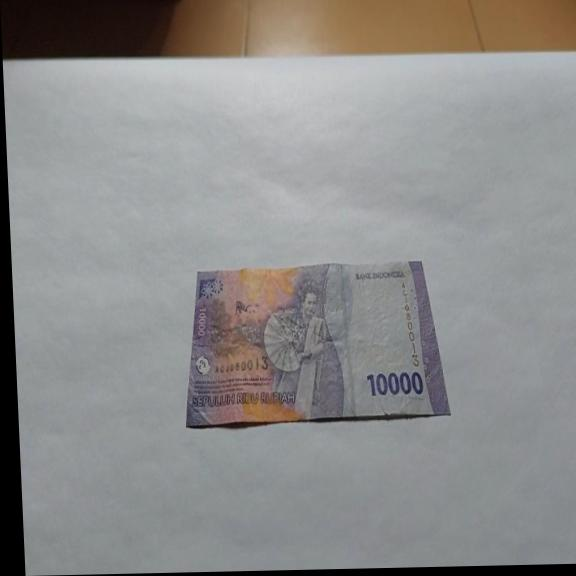Kertas: (178, 257, 451, 429), (365, 368, 425, 398)
